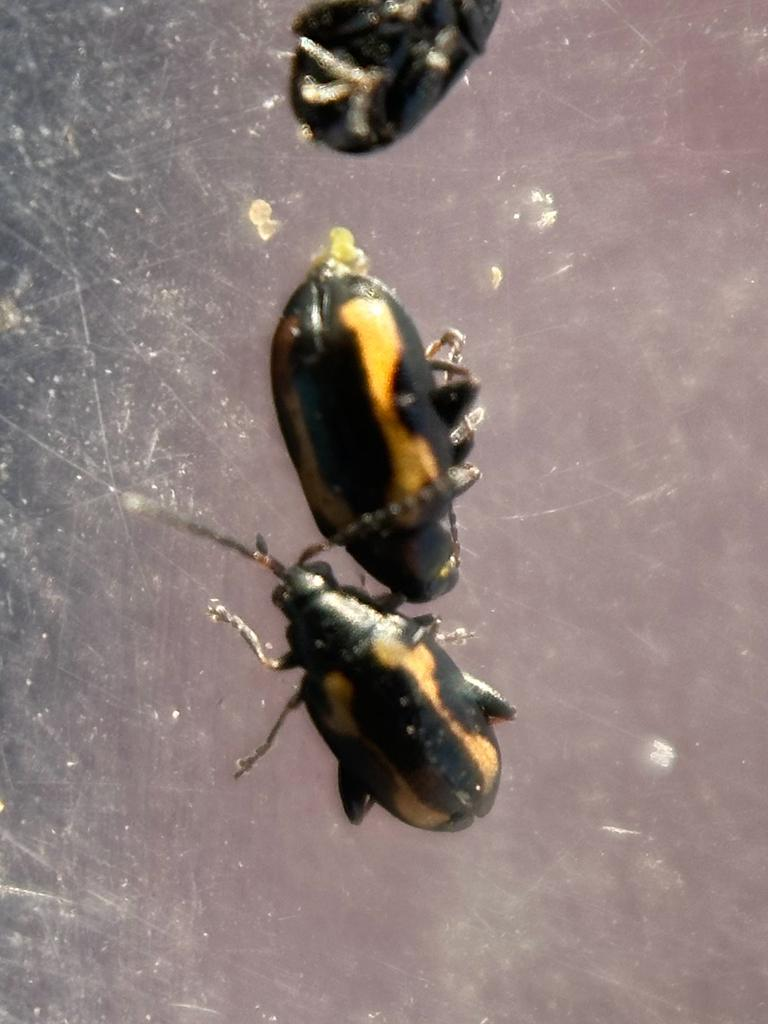flea_beetle: (138, 474, 582, 912), (234, 176, 527, 636)
